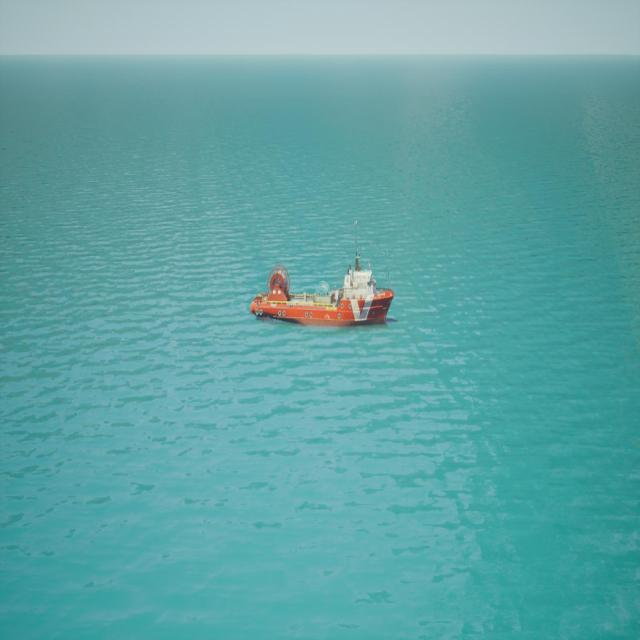tug boat: (250, 235, 397, 332)
